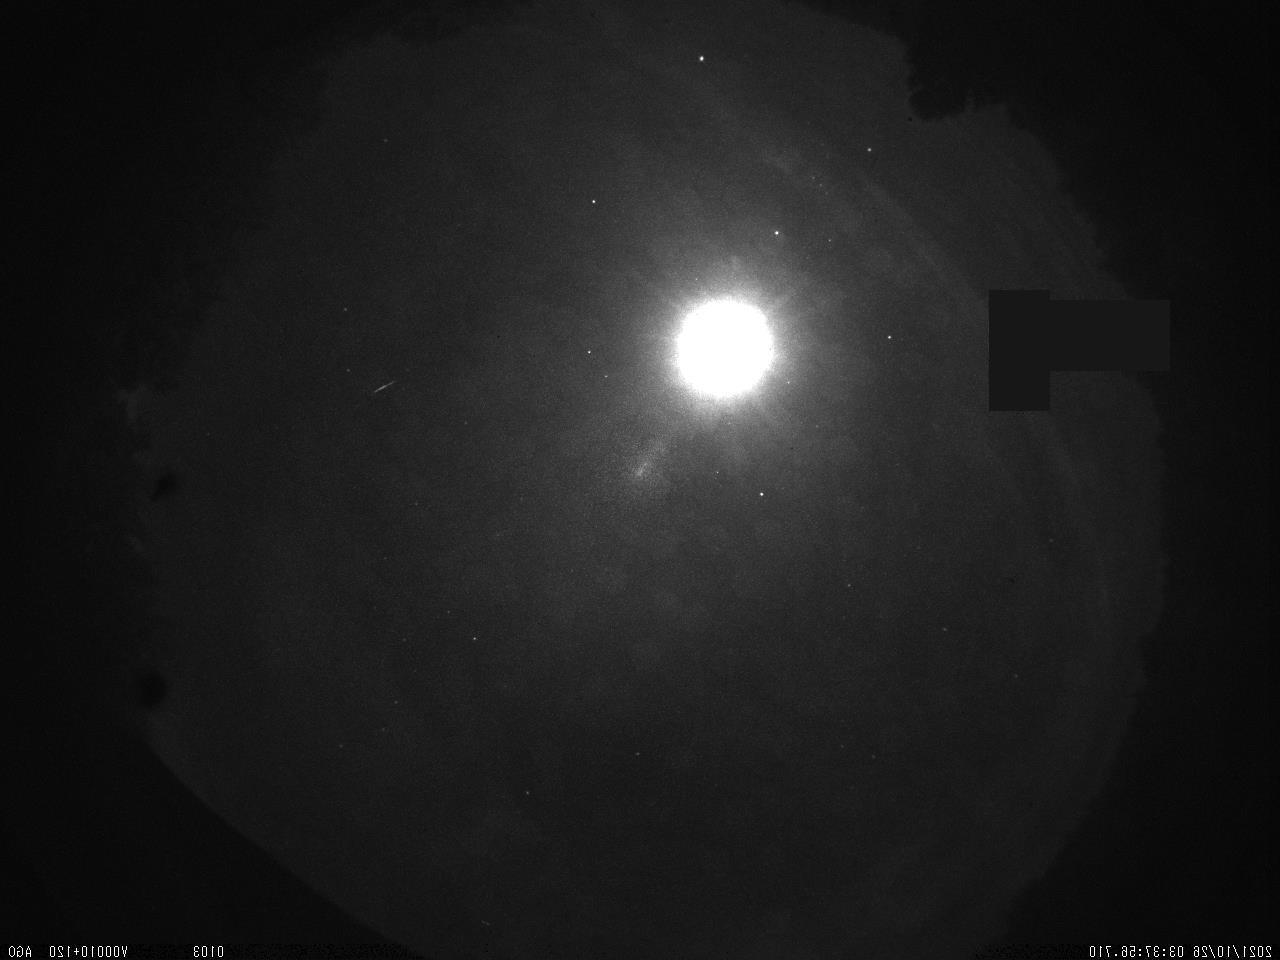meteor: (355, 372, 404, 410)
